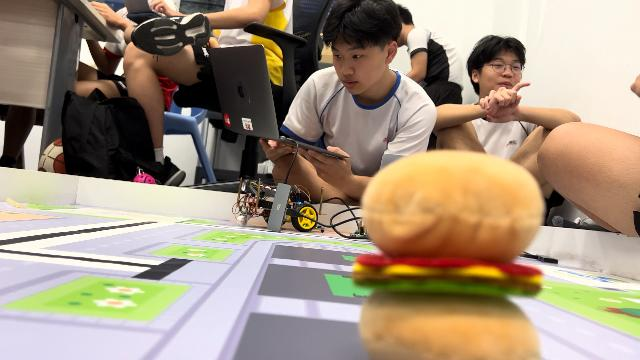burger: (350, 147, 548, 356)
